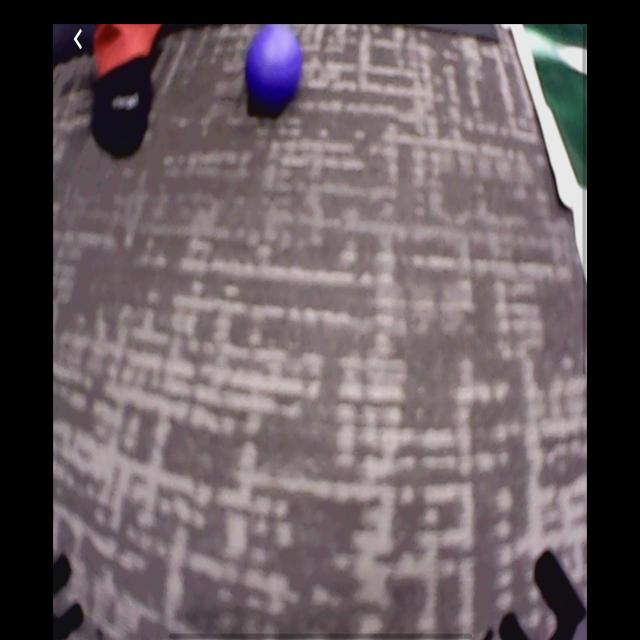ball: (243, 26, 304, 115)
